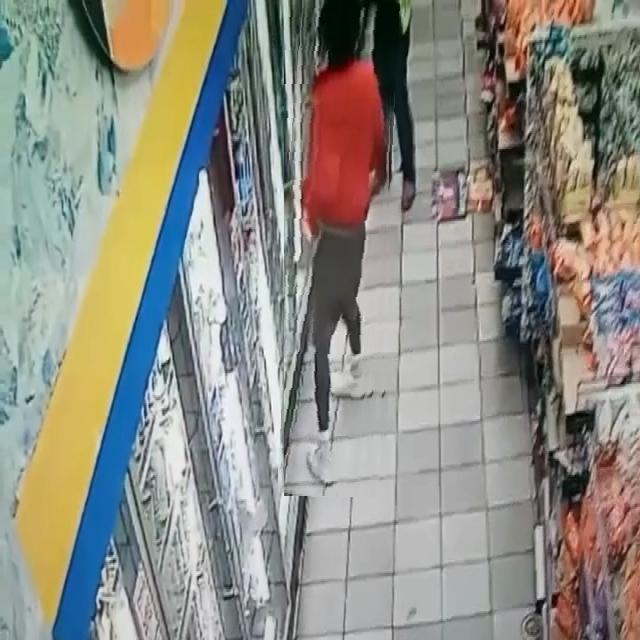normal: (284, 0, 394, 497)
